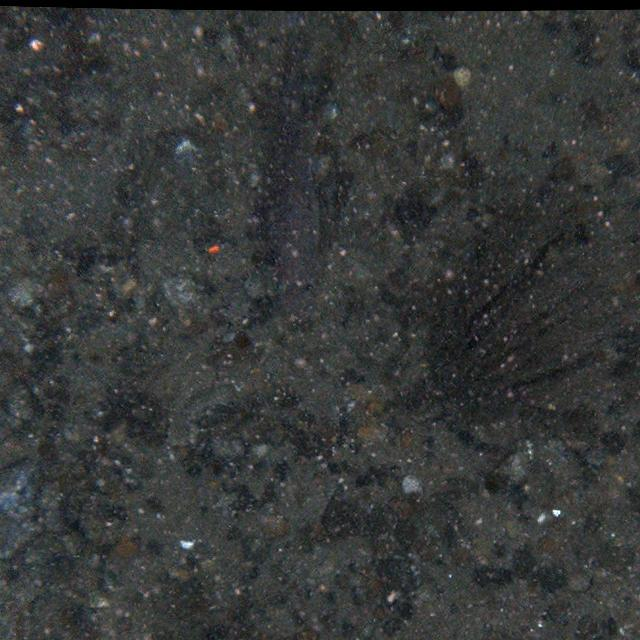roundfish: (249, 74, 330, 314)
